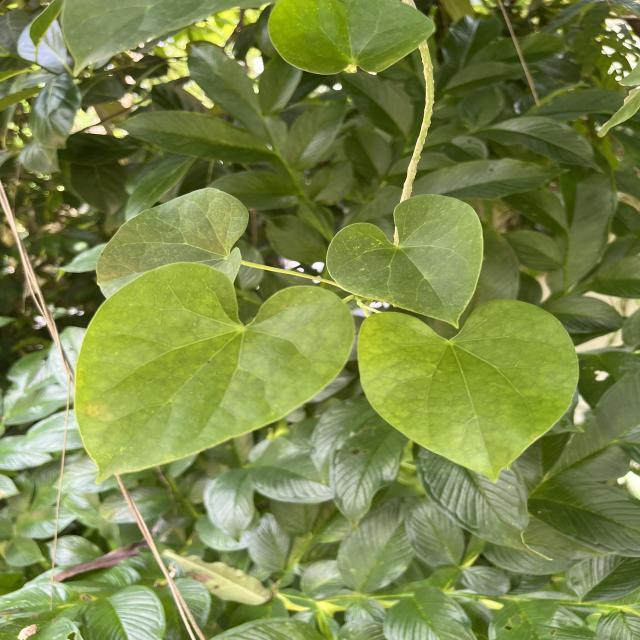Tinospora cordifolia: (71, 258, 359, 490), (354, 296, 582, 487), (323, 191, 488, 331)
